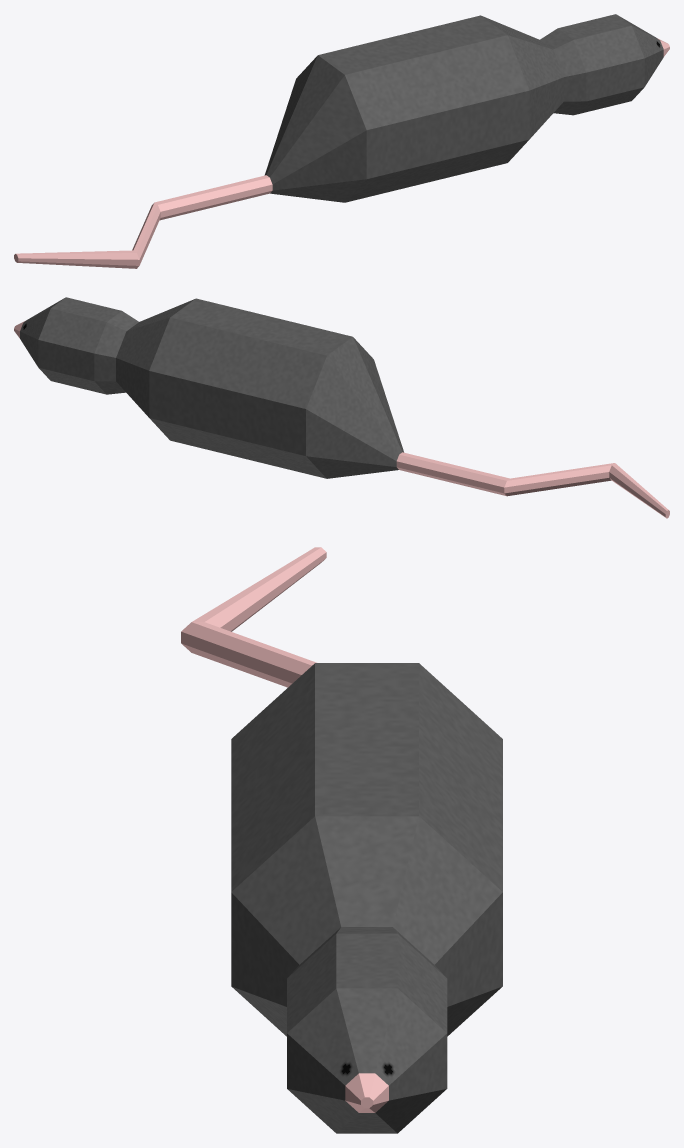
The model's file is rat.glb.
3 views of the same model, one above another, from view 1: azimuth 30°, elevation 25°; view 2: azimuth 150°, elevation 25°; view 3: azimuth 270°, elevation 25° (orthographic). The views are drawn at different scales.
Parts seen in each view (by area): view 1: Cube; view 2: Cube; view 3: Cube.
Part boxes in pixels (x1,y1,x2,y2): Cube: (14, 14, 669, 268); Cube: (14, 297, 669, 518); Cube: (181, 547, 502, 1133).
Bounding box in the file's own units: 0.8161 × 0.15 × 0.1777.
Materials: 1 (1 with a texture image).
